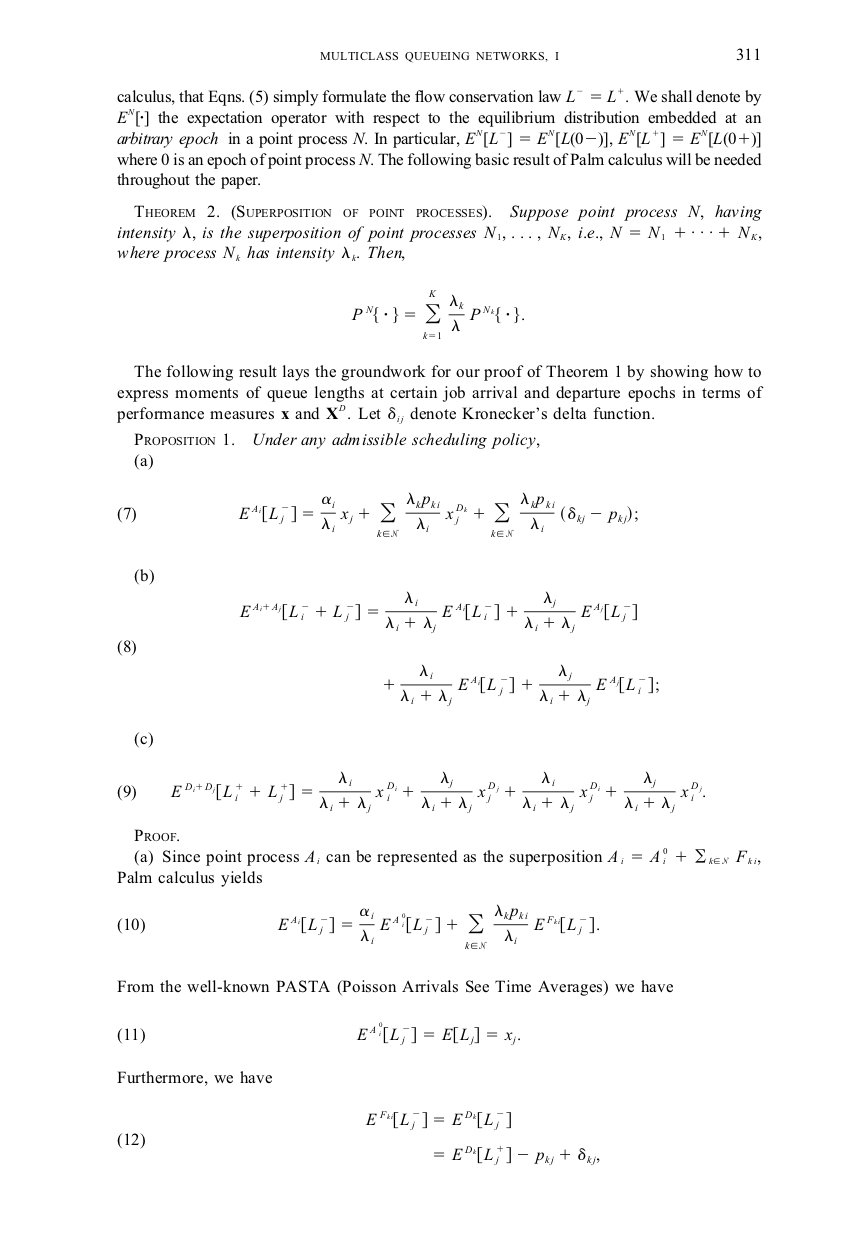formula: (117, 770, 704, 813), (117, 491, 637, 537), (117, 903, 598, 949), (239, 590, 636, 633), (117, 1132, 599, 1165), (384, 663, 658, 706), (117, 1021, 519, 1045), (351, 289, 523, 339), (365, 1110, 510, 1130)
